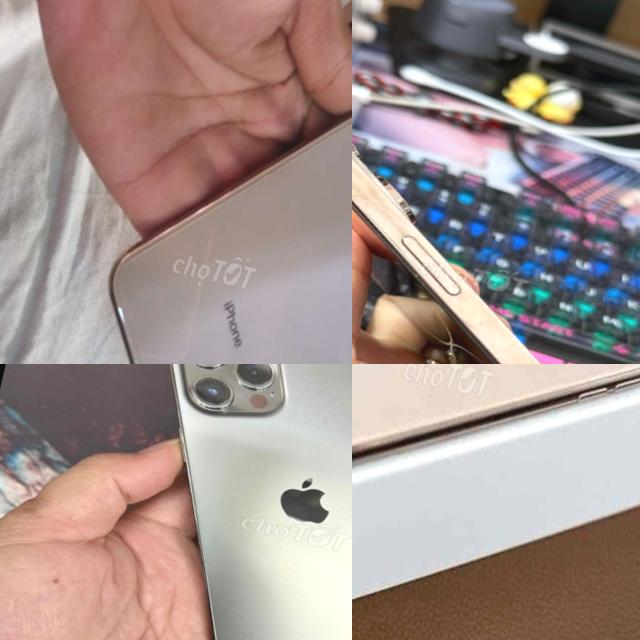gen_12_13: (99, 364, 352, 640)
gen_14: (352, 85, 640, 364)
gen_x_xs: (63, 0, 352, 364), (352, 364, 640, 543)
